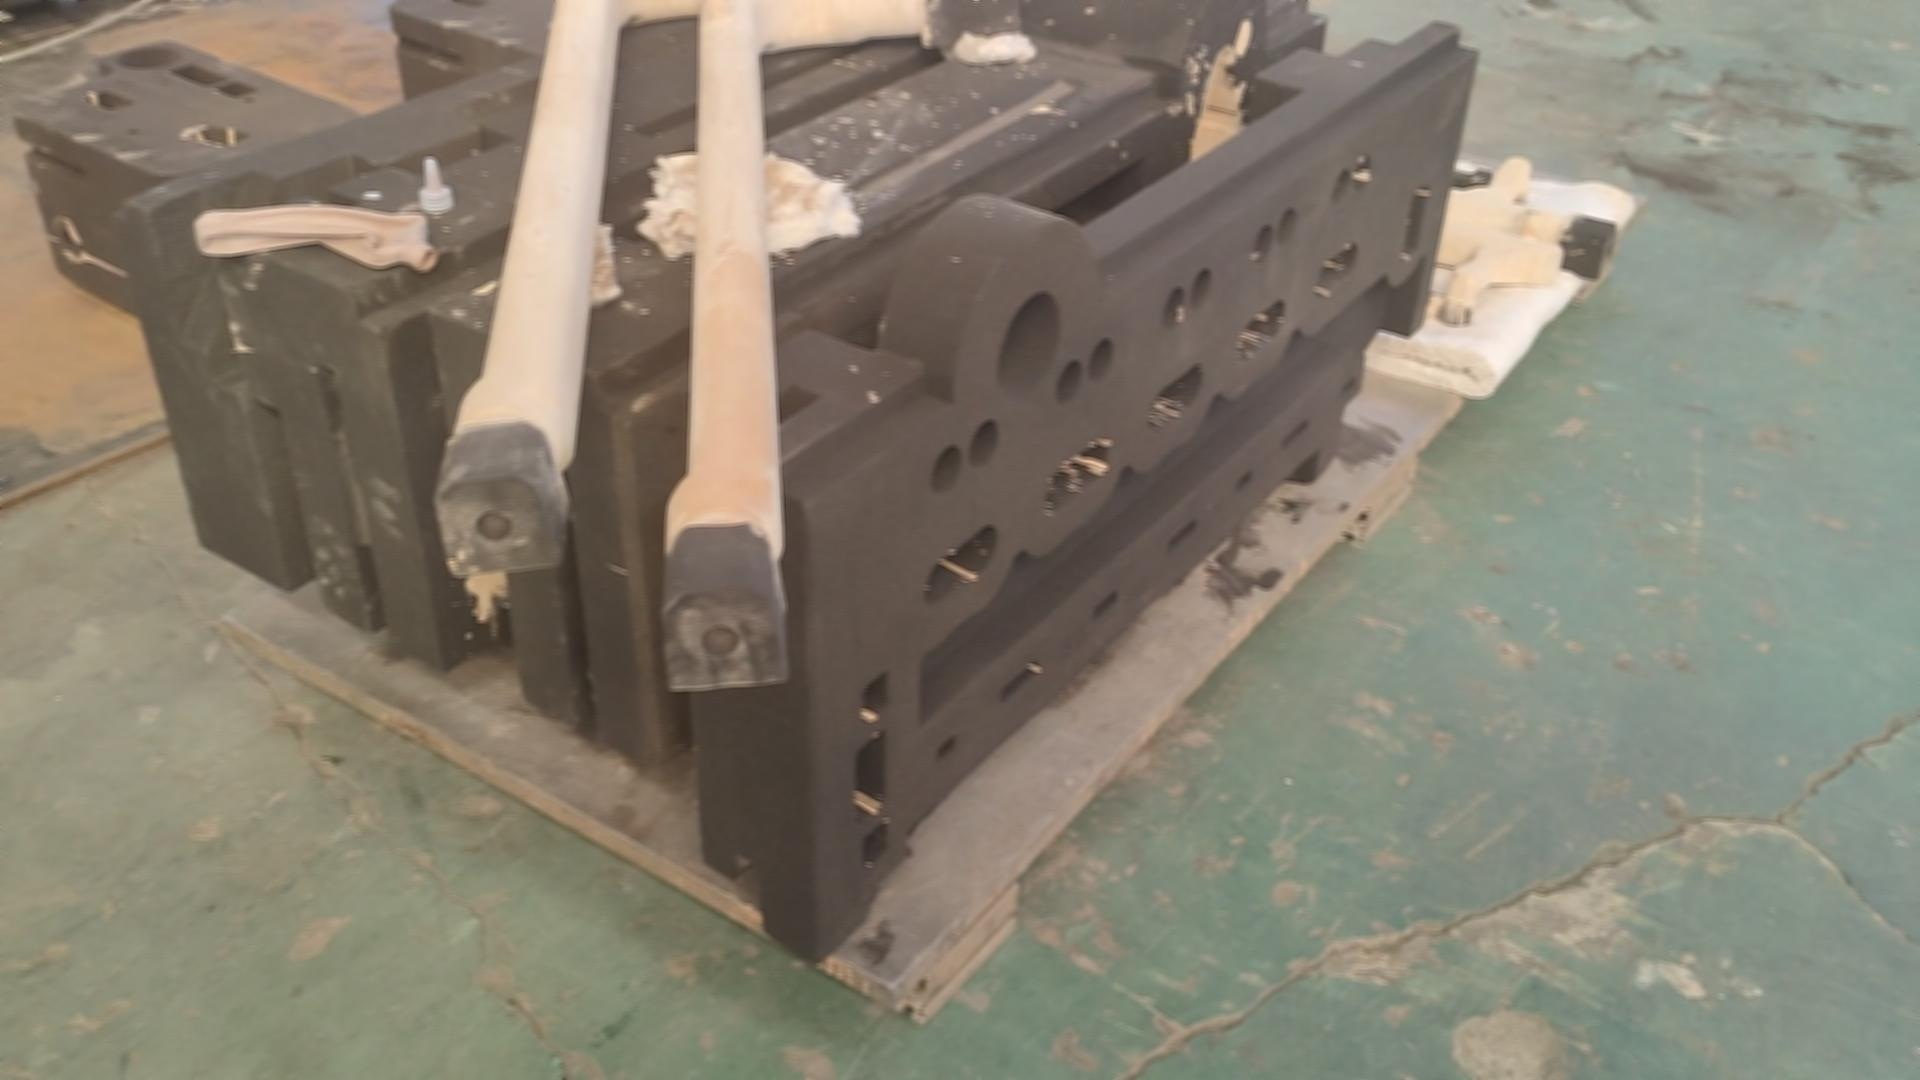pouring hole: (997, 289, 1062, 401), (115, 45, 181, 70)
